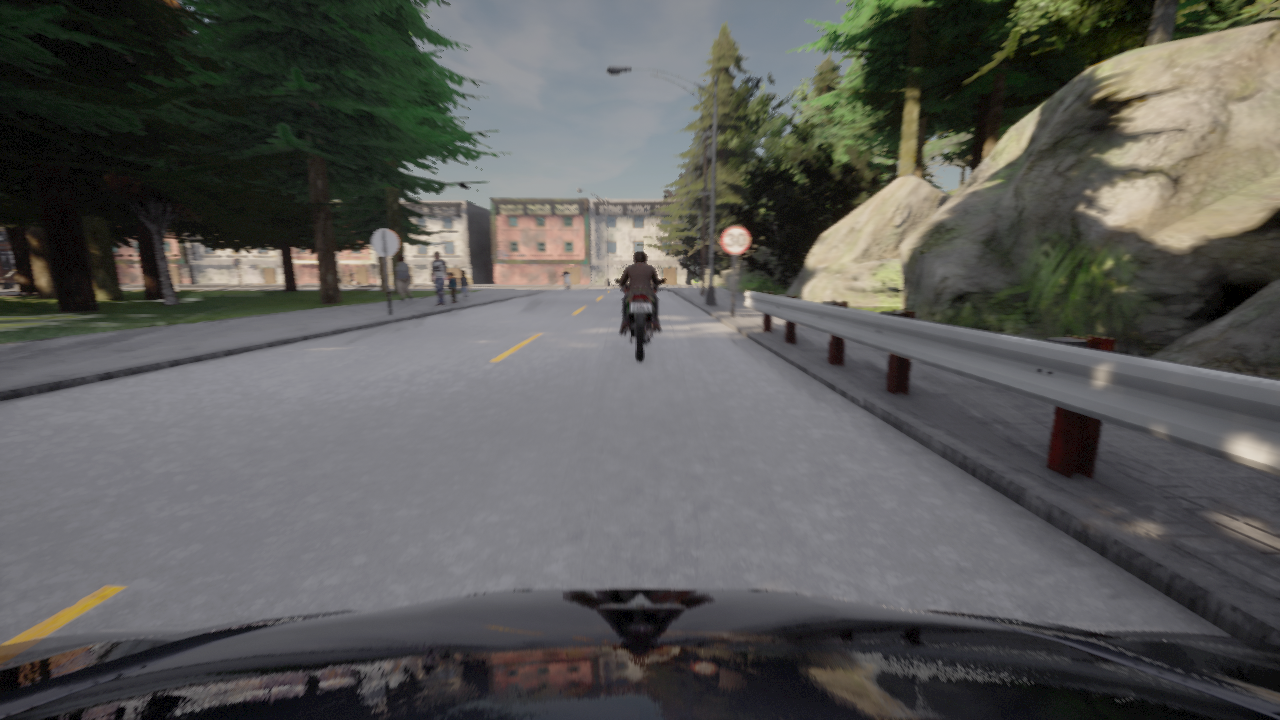cyclist: (0, 588, 1279, 719), (615, 280, 664, 361), (560, 273, 572, 291), (343, 277, 359, 287)
pedestrian: (431, 252, 448, 305), (395, 255, 412, 301), (459, 272, 469, 302), (447, 273, 456, 303)
